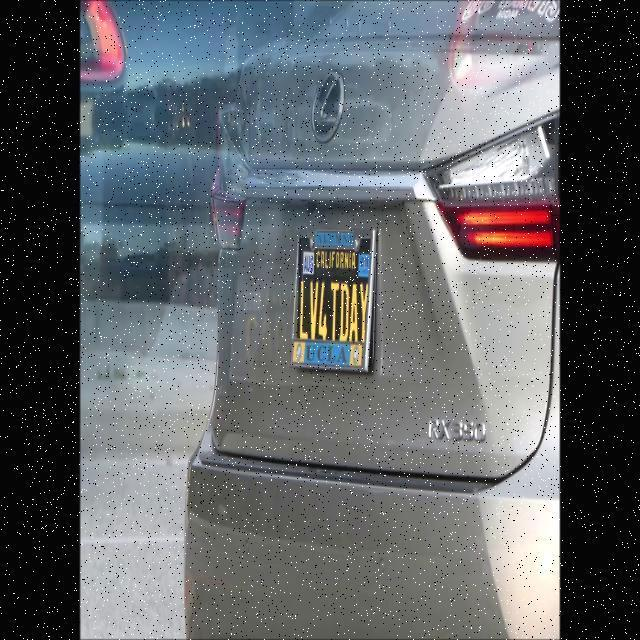LicensePlate: (291, 227, 381, 377)
